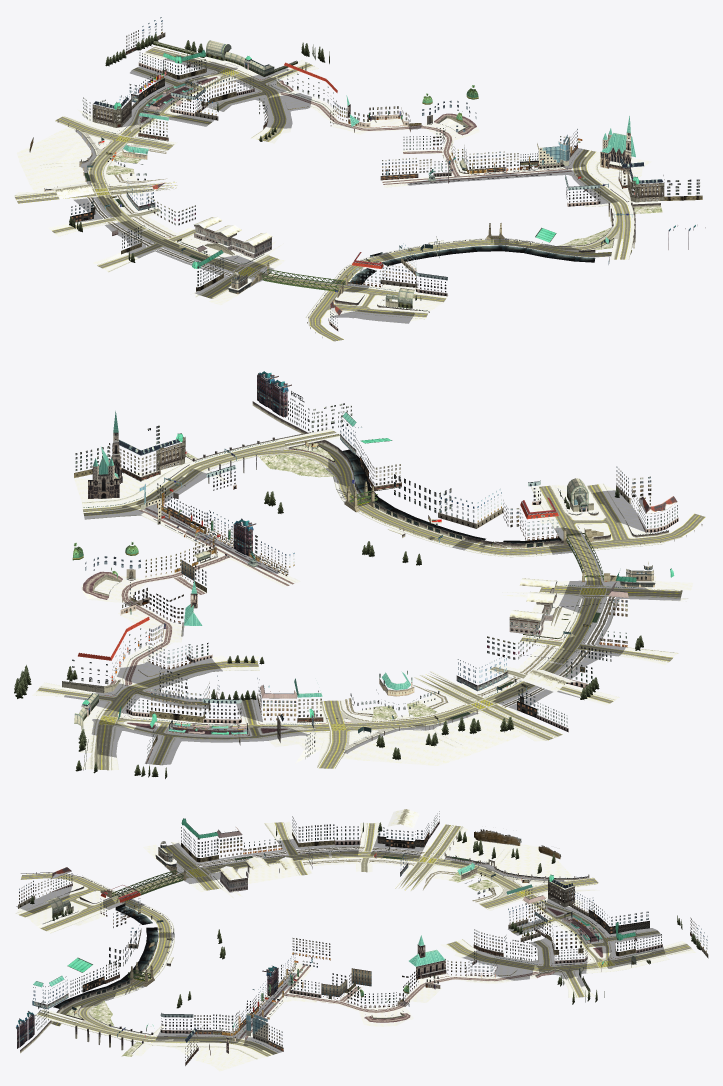
The model's file is track-EU_C1_V1.glb.
3 renders of one model, top to bottom at view 1: azimuth 30°, elevation 25°; view 2: azimuth 150°, elevation 25°; view 3: azimuth 270°, elevation 25°, orthographic. The views are drawn at different scales.
Parts seen in each view (by area): view 1: EU_C1_V1; view 2: EU_C1_V1; view 3: EU_C1_V1.
Part boxes in pixels (x1=…): EU_C1_V1: x1=14, y1=17, x2=705, y2=341; EU_C1_V1: x1=14, y1=371, x2=705, y2=778; EU_C1_V1: x1=15, y1=809, x2=708, y2=1071.
Bounding box in the file's own units: 1267 × 161 × 1488.
117 materials, 116 textured.
